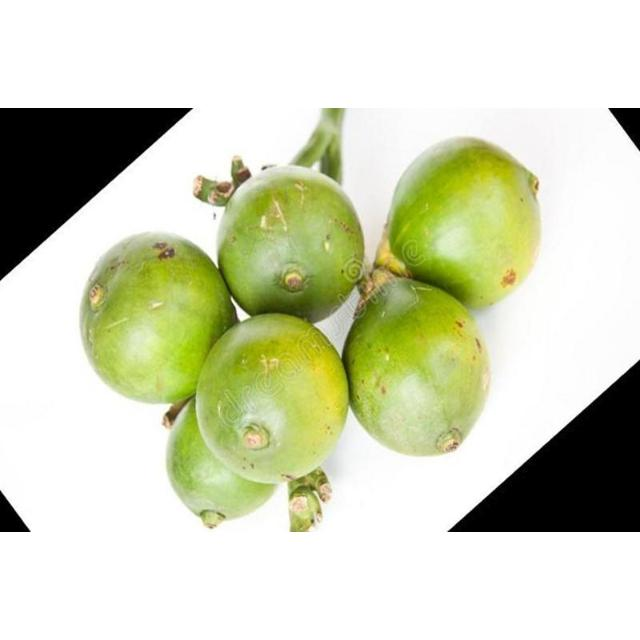good: (323, 288, 505, 456), (78, 232, 235, 406), (386, 136, 540, 308), (194, 315, 348, 483), (217, 165, 363, 323), (166, 396, 282, 530)
